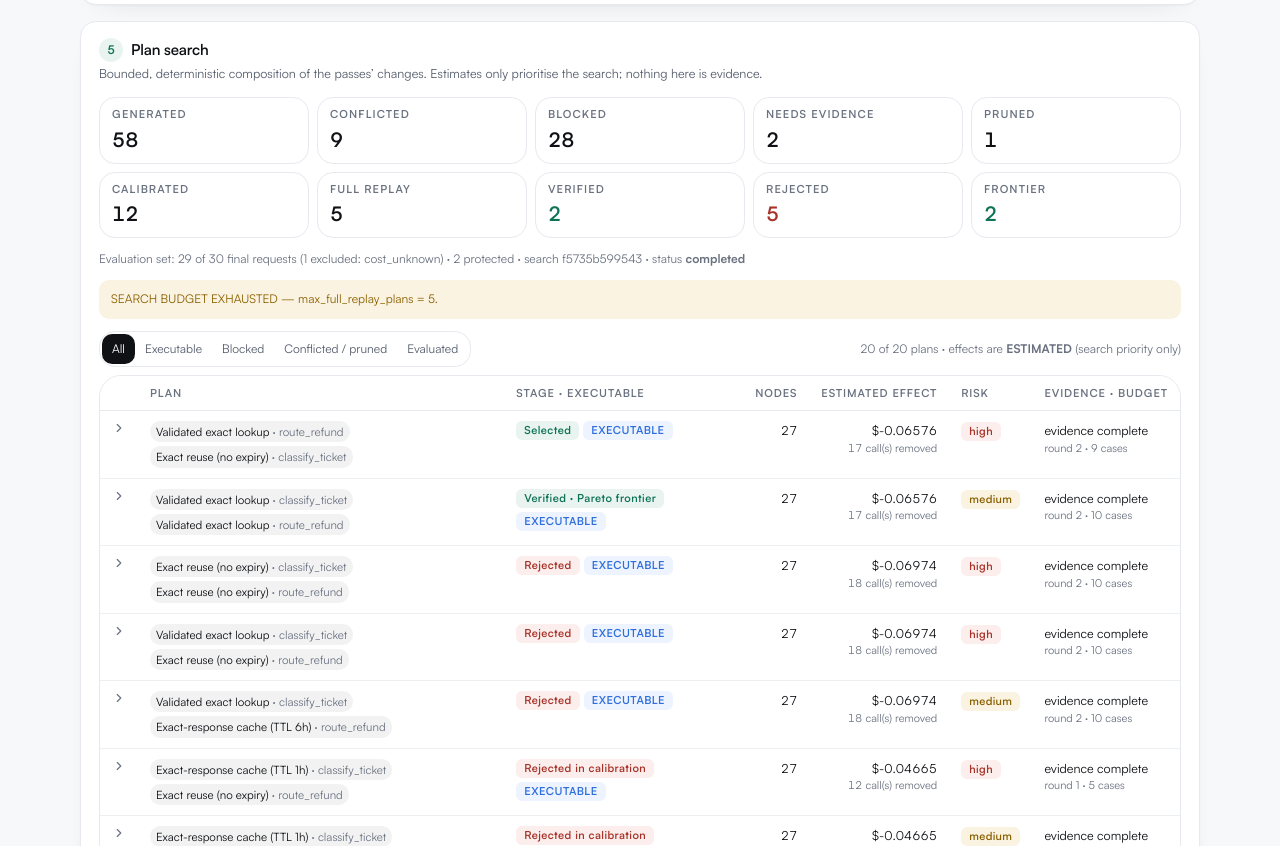
Optimization Intelligence view › expands a plan into its full explanation
The image size is (1280, 846).
(page scrolled)
Step 1. Click the button named "Show details for" → (119, 428), box x1=112 y1=421 x2=126 y2=435
(page scrolled)
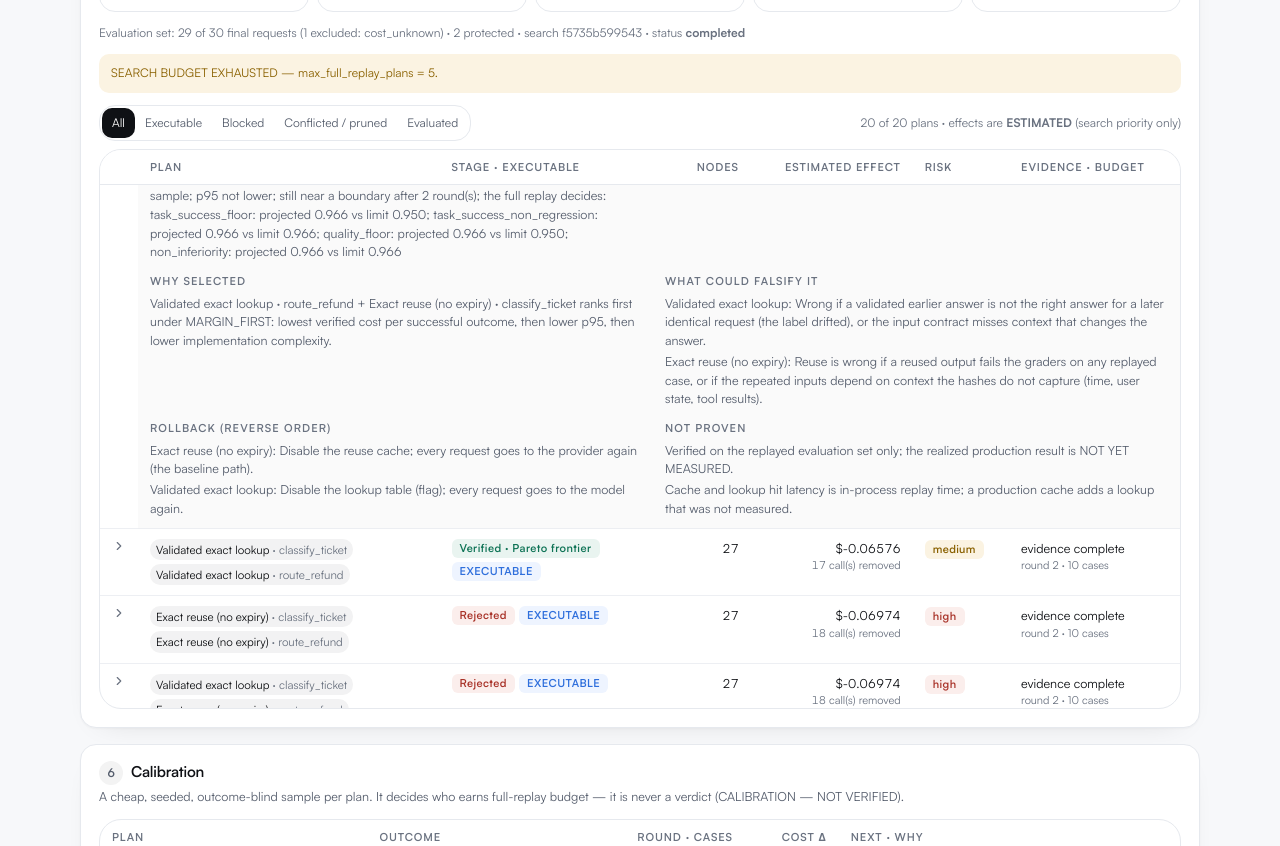
Check: the text "What could falsify it" is shown, box x1=665 y1=274 x2=818 y2=288
Check: the text "Not proven" is shown, box x1=665 y1=421 x2=746 y2=435
